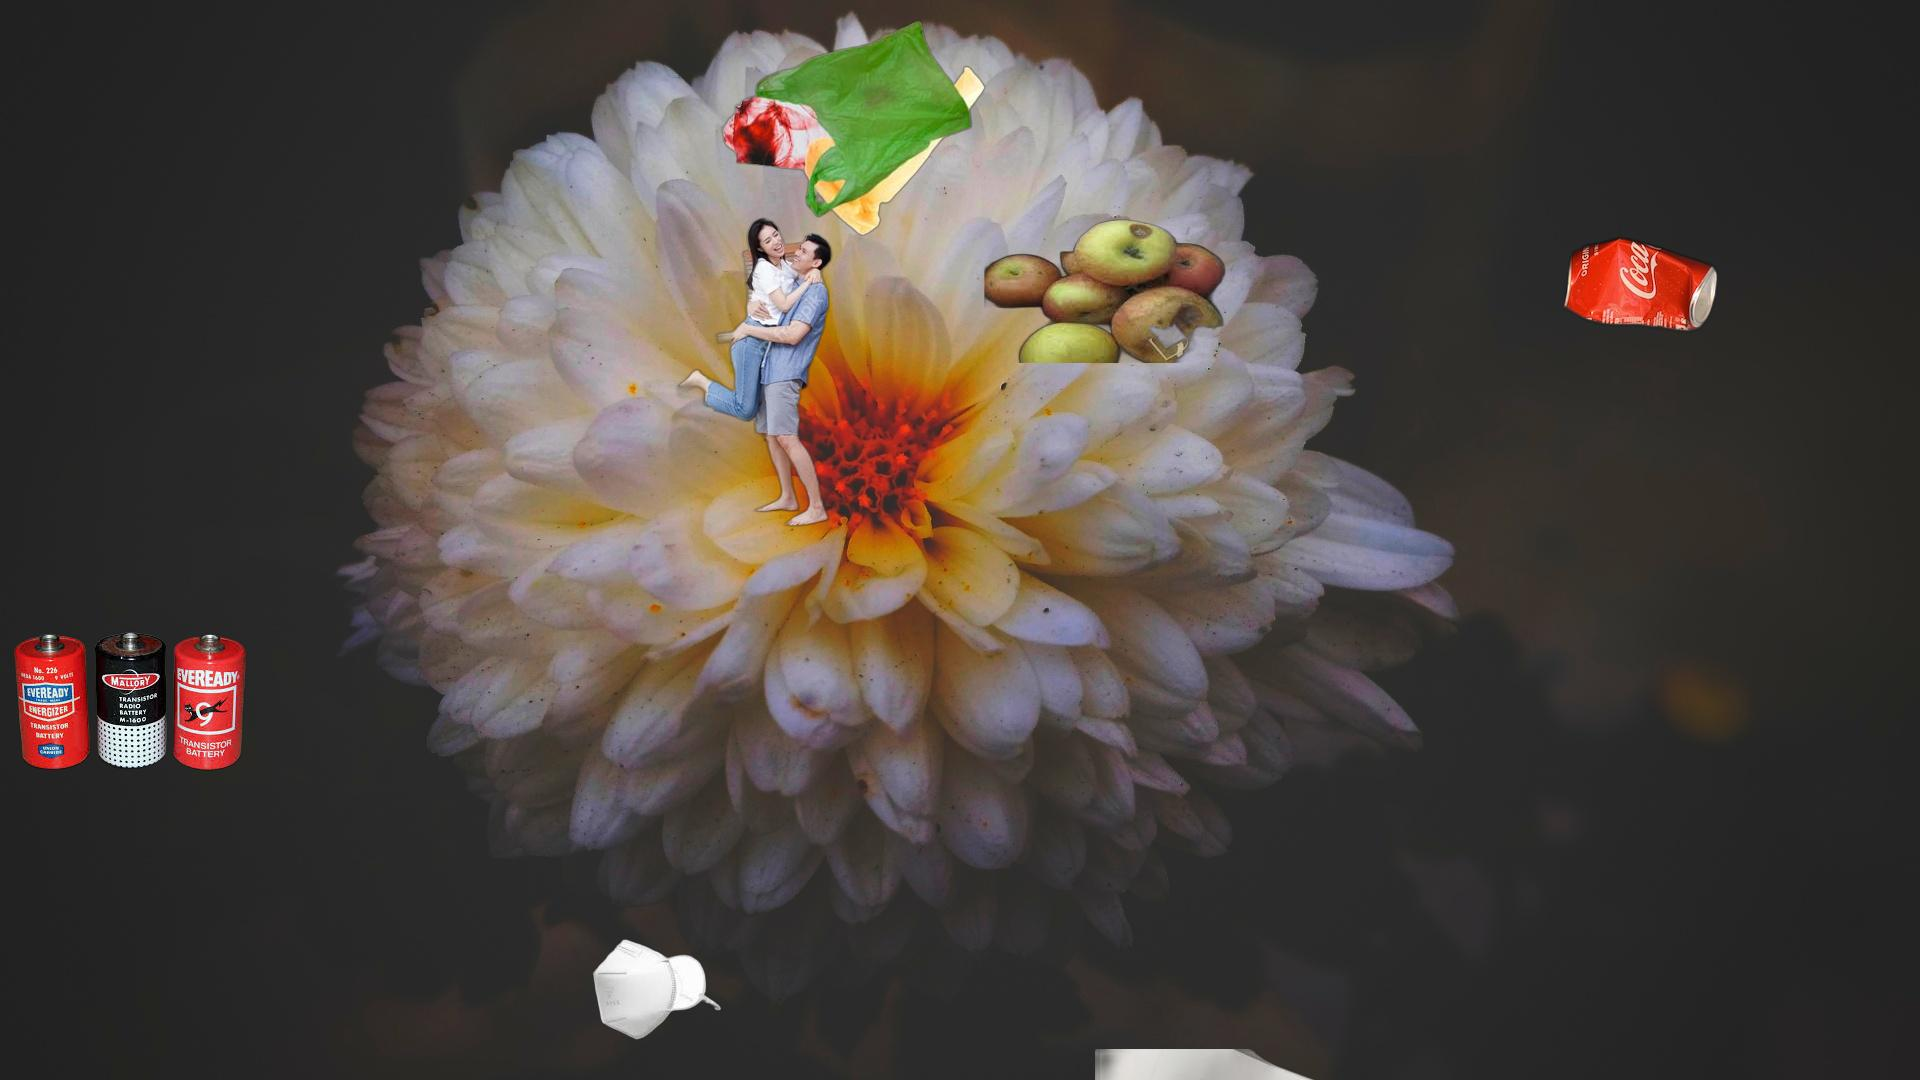battery: (11, 629, 249, 773)
biological: (984, 218, 1228, 363)
metal-cans: (1559, 232, 1722, 338)
paper: (1095, 1048, 1601, 1080)
plastic-bag: (717, 18, 986, 239)
trash: (589, 938, 724, 1043)
trashbox-cardboard: (673, 215, 837, 527)
